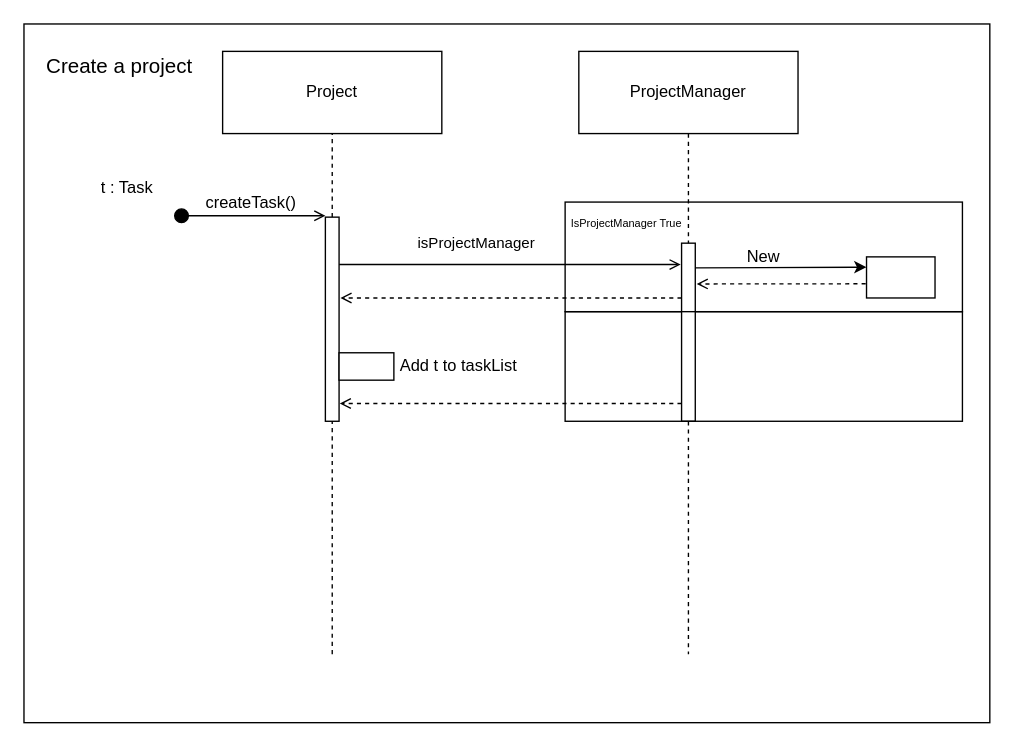
The diagram is 1014 pixels wide and 747 high, and some of its shapes have lost their labels. The centre of each missing label's shape, as x and y in pixels:
"IsProjectManager False" belongs at [763,365].
"Task" belongs at [900,277].
